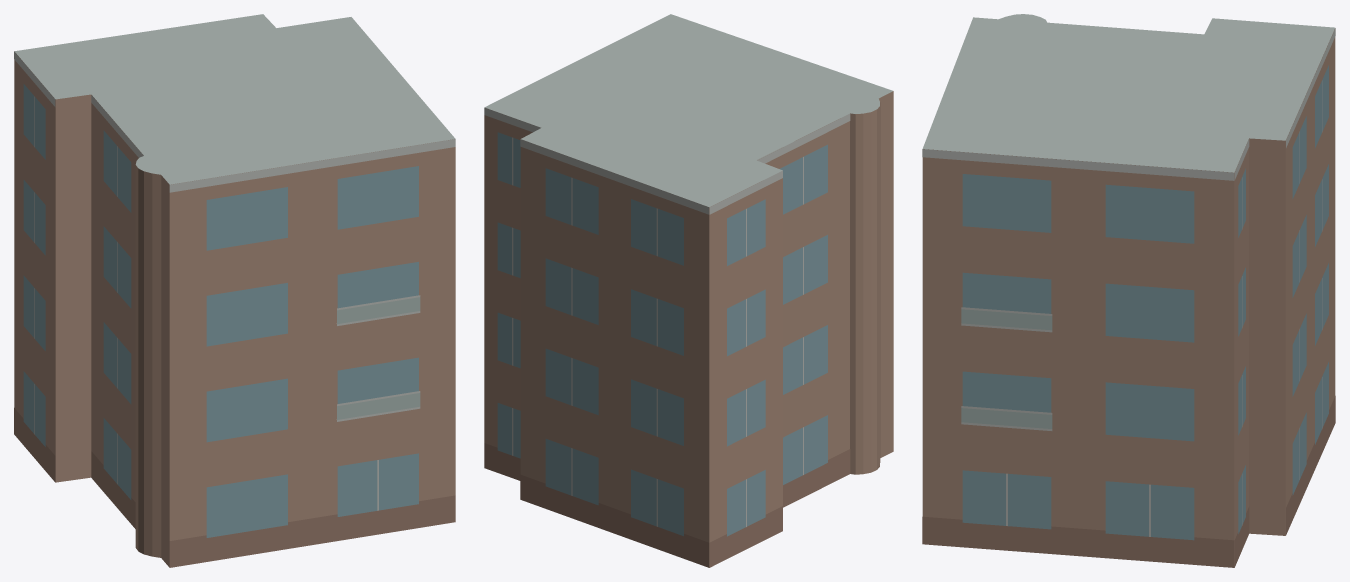
Rendered from survey-upis-32914131.glb.
3 renders of one model, left to right at view 1: azimuth 30°, elevation 25°; view 2: azimuth 150°, elevation 25°; view 3: azimuth 270°, elevation 25°, orthographic. The views are drawn at different scales.
Parts seen in each view (by area): view 1: survey-upis-32914131.tmp; view 2: survey-upis-32914131.tmp; view 3: survey-upis-32914131.tmp.
Boxes of the visible parts, bbox=[...] form: survey-upis-32914131.tmp: bbox=[14, 14, 455, 567]; survey-upis-32914131.tmp: bbox=[484, 14, 893, 567]; survey-upis-32914131.tmp: bbox=[922, 14, 1335, 567].
Bounding box in the file's own units: 9.99 × 11.6 × 11.
